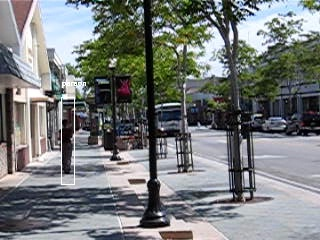person: (56, 119, 76, 176), (55, 119, 75, 176), (57, 119, 77, 176), (56, 118, 76, 175), (56, 120, 76, 177)
target_negative: (6, 133, 129, 216), (282, 8, 314, 216), (281, 185, 317, 240), (90, 181, 206, 191), (292, 112, 305, 197)
